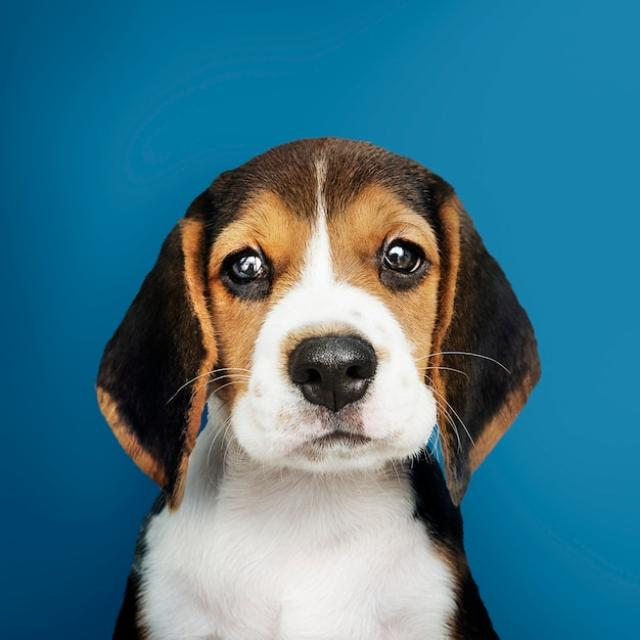Dog: (99, 138, 543, 640)
